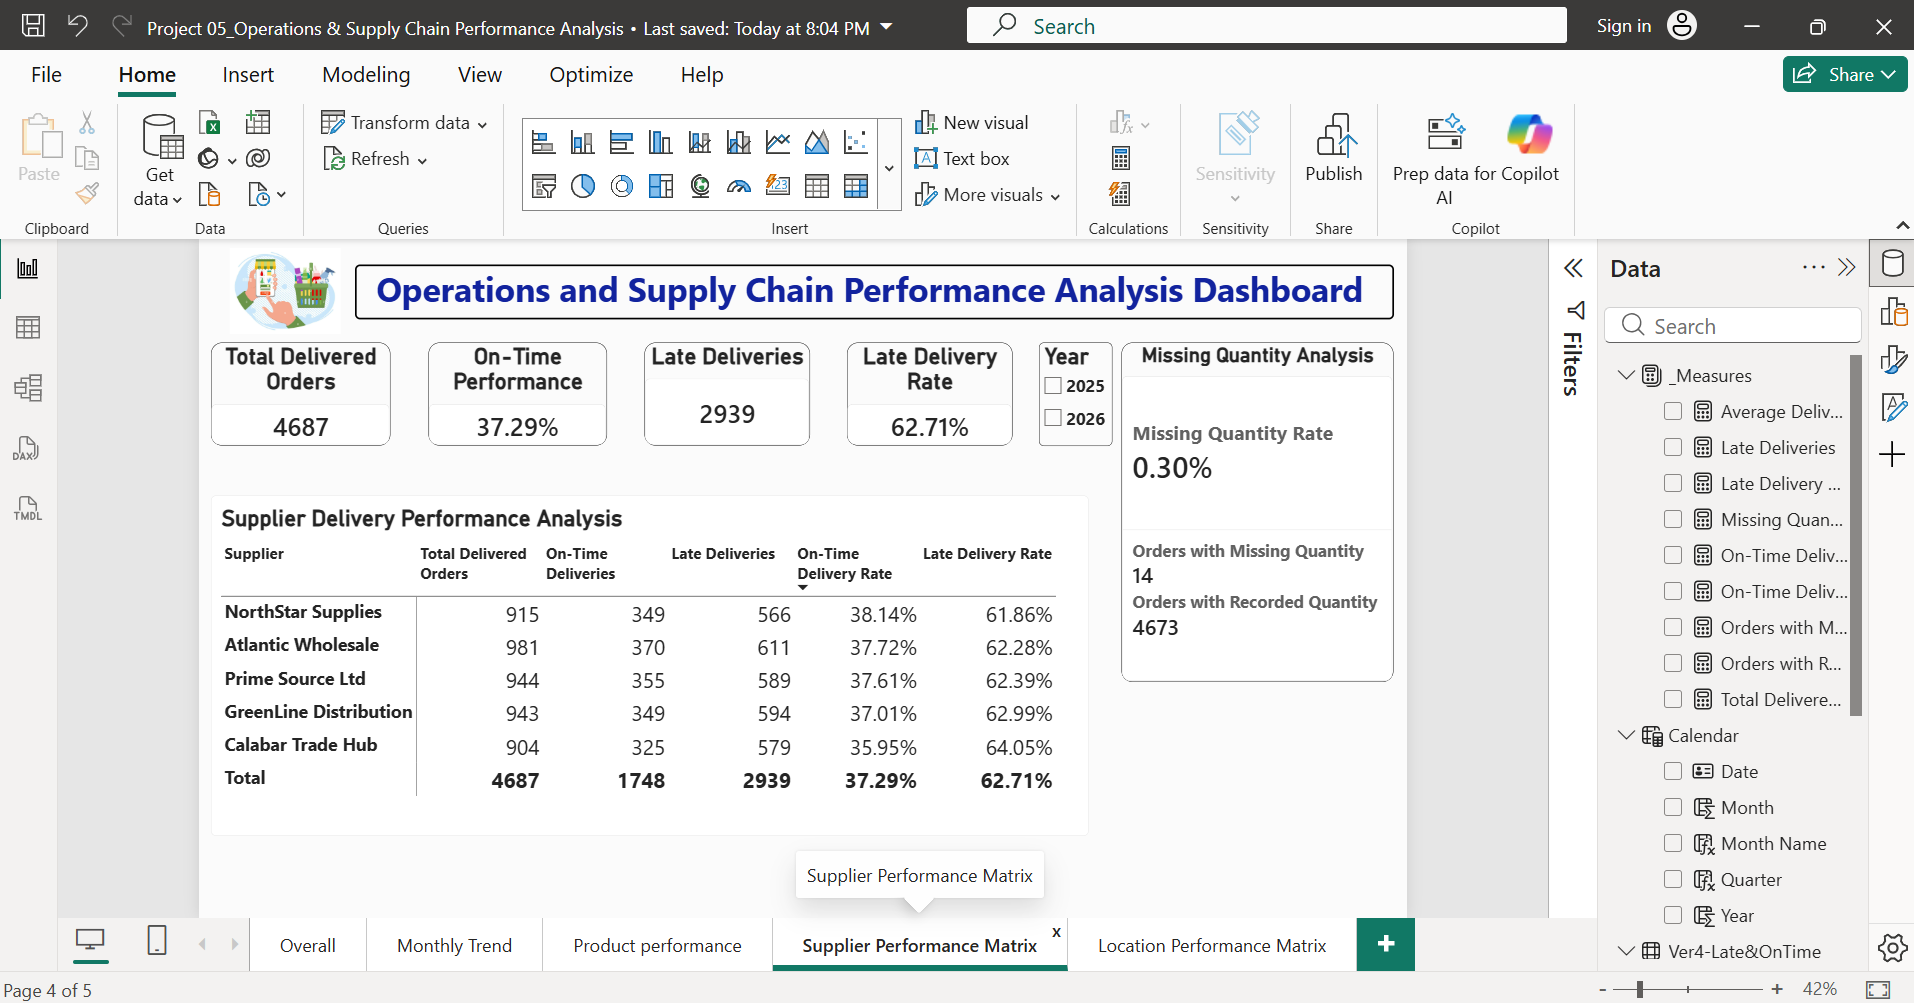

What the dashboard file says about the page in this screenshot:
{"tool":"powerbi","page":{"name":"Supplier Performance Matrix","canvas":[1920,1080],"ordinal":3},"visuals":[{"type":"cardVisual","title":"Total Delivered Orders","fields":{"Data":["_Measures.Total Delivered Orders"]},"box":[18.8,164.1,285.4,164.1],"z":0},{"type":"cardVisual","title":"On-Time Performance","fields":{"Data":["_Measures.On-Time Delivery Rate"]},"box":[364.1,164.6,283.7,164.1],"z":1000},{"type":"cardVisual","title":"Late Deliveries","fields":{"Data":["_Measures.Late Deliveries"]},"box":[707.7,164.6,263.2,164.1],"z":2000},{"type":"cardVisual","title":"Missing Quantity Analysis","fields":{"Data":["_Measures.Missing Quantity Rate"]},"box":[1467.9,164.1,432.3,540],"z":7000},{"type":"slicer","fields":{"Values":["Calendar.Year"]},"box":[1336.1,164.6,116.9,164.6],"z":8000},{"type":"textbox","box":[247.8,41,1652.5,87.2],"z":9000},{"type":"image","box":[25.6,13.7,222.2,136.7],"z":10000},{"type":"cardVisual","title":"Late Delivery Rate","fields":{"Data":["_Measures.Late Delivery Rate"]},"box":[1030.7,164.6,263.2,164.1],"z":11000},{"type":"pivotTable","title":"Supplier Delivery Performance Analysis","fields":{"Rows":["Ver4-Late&OnTime.Supplier"],"Values":["_Measures.Total Delivered Orders","_Measures.On-Time Deliveries","_Measures.Late Deliveries","_Measures.On-Time Delivery Rate","_Measures.Late Delivery Rate"]},"box":[19.1,408,1395.8,541.6],"z":11001}]}

Visuals, with their boxes on the page's 1920x1080 design canvas (x1, y1, x2, y2). These are canvas units, not pixel positions in the 1914x1003 screenshot, which may show the page scaled, cropped or inside an application window:
"Total Delivered Orders" cardVisual: (19,164,304,328)
"On-Time Performance" cardVisual: (364,165,648,329)
"Late Deliveries" cardVisual: (708,165,971,329)
"Missing Quantity Analysis" cardVisual: (1468,164,1900,704)
slicer - Calendar.Year: (1336,165,1453,329)
textbox: (248,41,1900,128)
image: (26,14,248,150)
"Late Delivery Rate" cardVisual: (1031,165,1294,329)
"Supplier Delivery Performance Analysis" pivotTable: (19,408,1415,950)
